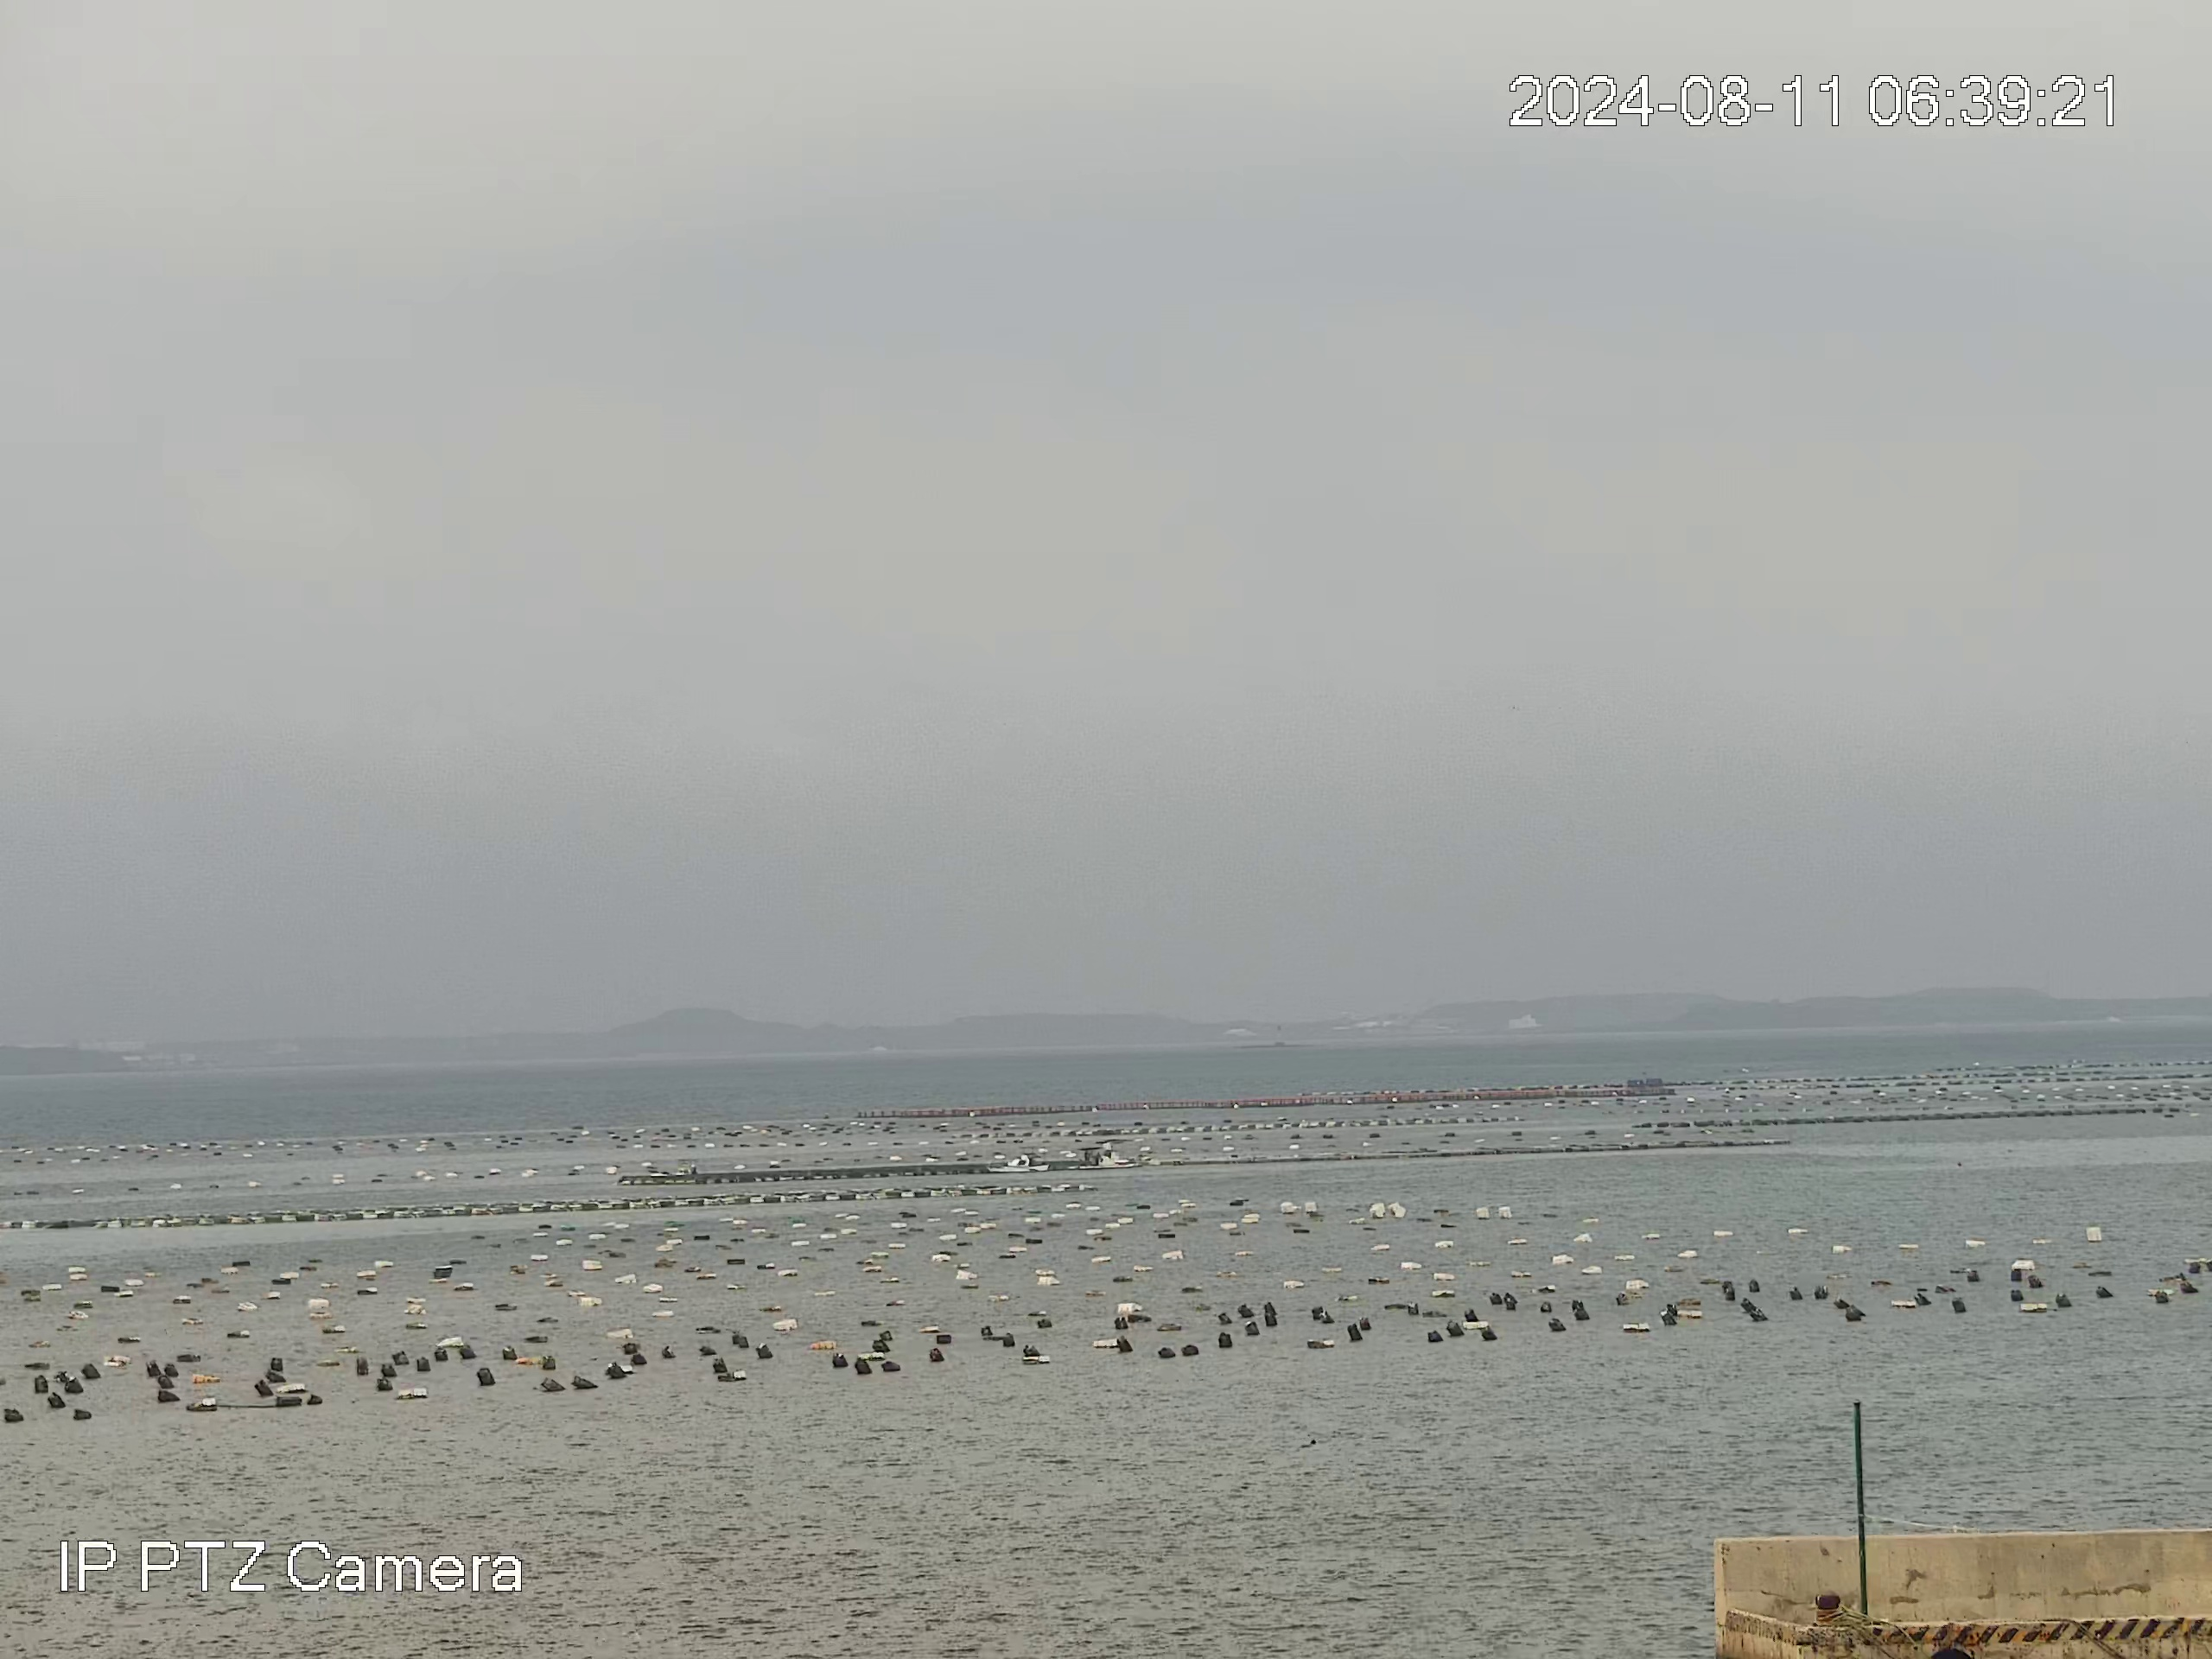boat: (1066, 1145, 1132, 1171), (984, 1154, 1050, 1175)
